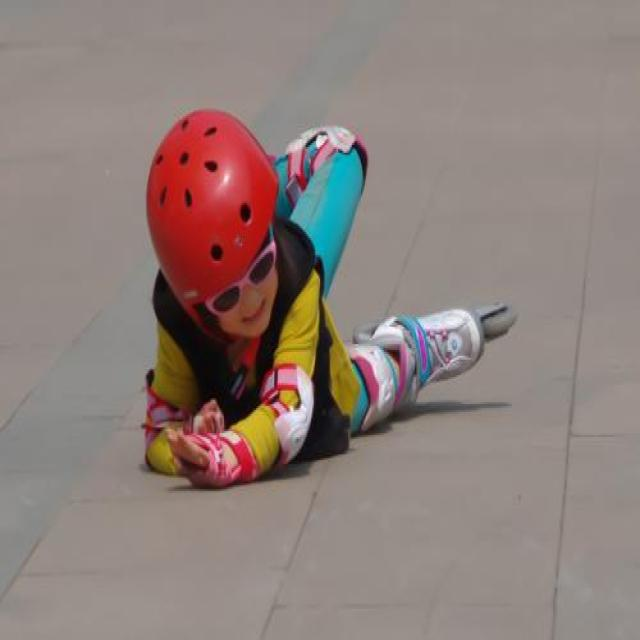fall: (135, 128, 453, 464)
